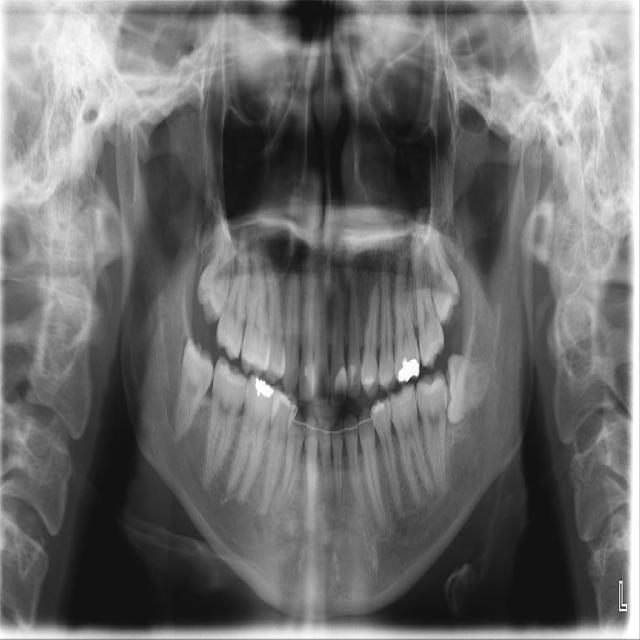Filling: (398, 356, 420, 382), (255, 378, 273, 398)
impacted tooth: (171, 339, 213, 440), (198, 200, 232, 321), (443, 351, 496, 422), (423, 227, 459, 324)
